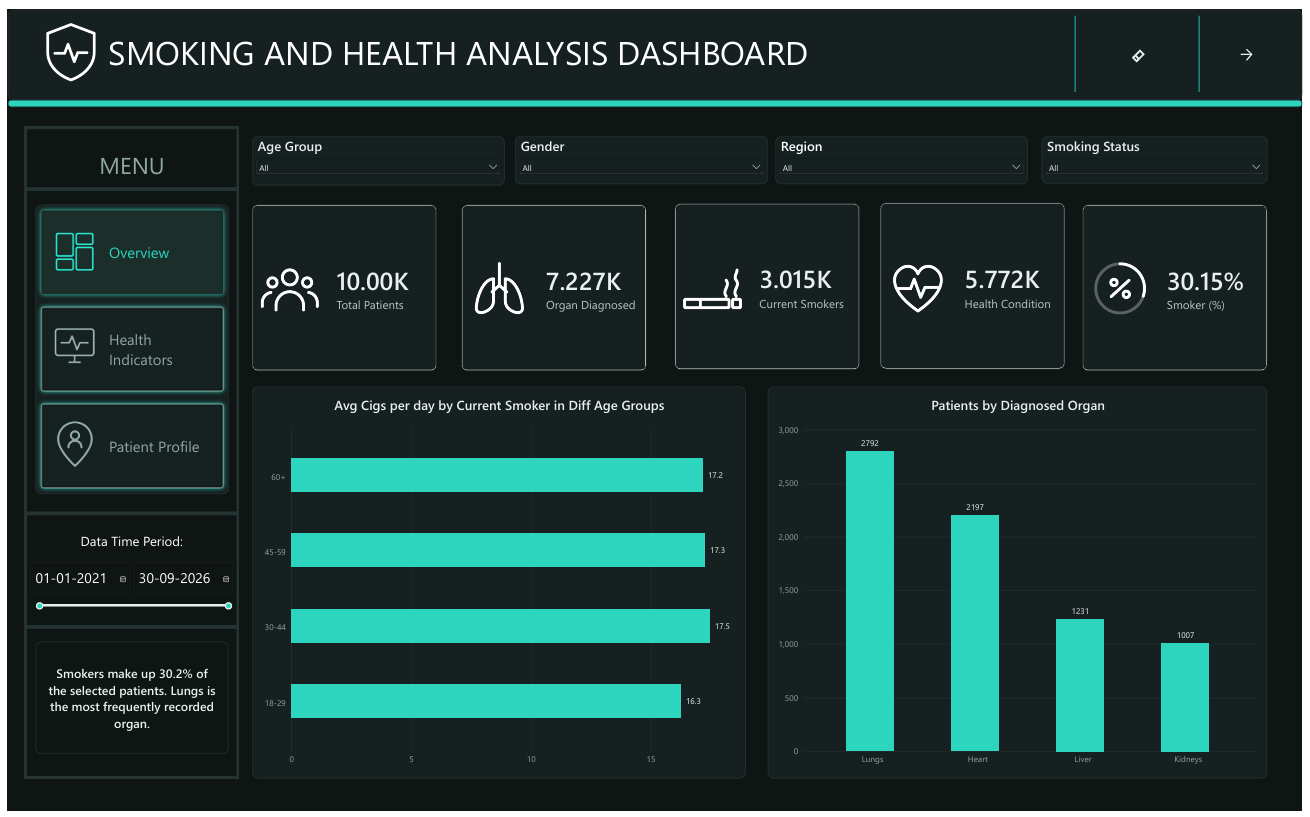

The page's visual inventory and layout, read from the dashboard file:
{"tool":"powerbi","page":{"name":"Overview","canvas":[2100,1300],"ordinal":0},"visuals":[{"type":"cardVisual","fields":{"Data":["measure.Smoker %"]},"box":[1742.9,315.7,300,270],"z":0},{"type":"barChart","title":"Avg Cigs per day by Current Smoker in Diff Age Groups","fields":{"Category":["Smoking_Health_Analysis.Age Group"],"Y":["measure.Avg Cigs per Current Smoker"]},"box":[395.7,611.4,801.4,635.7],"z":1000},{"type":"columnChart","title":"Patients by Diagnosed Organ","fields":{"Category":["Smoking_Health_Analysis.Diagnosed_Organ"],"Y":["CountNonNull(Smoking_Health_Analysis.Health_Condition)"]},"box":[1232.9,611.4,810,635.7],"z":2000},{"type":"shape","box":[0,0,2100,145.8],"z":3000},{"type":"shape","box":[0,146,2100,12.2],"z":4000},{"type":"image","box":[45,0,115,135],"z":5000},{"type":"textbox","box":[127.5,31.2,1185,103.8],"z":6000},{"type":"cardVisual","fields":{"Data":["measure.Patients with Health Condition"]},"box":[1415,312.5,300,270],"z":7000},{"type":"cardVisual","fields":{"Data":["measure.Patients with Organ diagnose"]},"box":[735.8,315.8,300,270],"z":8000},{"type":"cardVisual","fields":{"Data":["measure.Current Smokers"]},"box":[1082,314,300,270],"z":9000},{"type":"cardVisual","fields":{"Data":["measure.Total Patients"]},"box":[396,316,300,270],"z":10000},{"type":"actionButton","box":[1773.5,14.1,120,120.8],"z":11000},{"type":"shape","box":[1725.3,10,12.9,122.9],"z":12000},{"type":"shape","box":[1926.5,10,12.9,122.9],"z":13000},{"type":"actionButton","box":[1959.4,52.9,100,40],"z":14000},{"type":"slicer","fields":{"Values":["Smoking_Health_Analysis.Age Group"]},"box":[396,205,410,80],"z":15000},{"type":"slicer","fields":{"Values":["Smoking_Health_Analysis.Gender"]},"box":[823,205,410,77.5],"z":16000},{"type":"slicer","fields":{"Values":["Smoking_Health_Analysis.Region"]},"box":[1245,205,410,77.5],"z":17000},{"type":"slicer","fields":{"Values":["Smoking_Health_Analysis.Smoking_Status"]},"box":[1677,205,366.7,76.7],"z":18000},{"type":"shape","box":[27.3,190,348.2,1057.3],"z":19000},{"type":"pageNavigator","box":[45.2,316.2,313.6,470],"z":20000},{"type":"shape","box":[27.9,840,346.4,42.1],"z":21000},{"type":"slicer","fields":{"Values":["Smoking_Health_Analysis.Diagnosis_Date"]},"box":[27.9,890.7,346.4,97.1],"z":22000},{"type":"shape","box":[27.9,794.3,346.4,45.7],"z":23000},{"type":"shape","box":[27.9,977.9,346.4,46.4],"z":24000},{"type":"shape","box":[27.9,267.9,346.4,45.7],"z":25000},{"type":"textbox","box":[27.7,226.9,347.7,57.7],"z":26000},{"type":"cardVisual","fields":{"Data":["measure.Insight Text P1"]},"box":[45,1025,313.3,181.7],"z":27000},{"type":"image","box":[63.3,351.7,91,81],"z":28000},{"type":"image","box":[63.3,503.3,90.8,80.8],"z":29000},{"type":"image","box":[63.3,660,90.8,87.5],"z":30000}]}

Visuals, with their boxes in screenshot pixels (x1, y1, x2, y2), scaled from the page's 2100x1300 canvas onto the 1310x817 screenshot:
cardVisual - measure.Smoker %: (left=1087, top=198, right=1274, bottom=368)
"Avg Cigs per day by Current Smoker in Diff Age Groups" barChart: (left=247, top=384, right=747, bottom=784)
"Patients by Diagnosed Organ" columnChart: (left=769, top=384, right=1274, bottom=784)
shape: (left=0, top=0, right=1309, bottom=92)
shape: (left=0, top=92, right=1309, bottom=99)
image: (left=28, top=0, right=100, bottom=85)
textbox: (left=80, top=20, right=819, bottom=85)
cardVisual - measure.Patients with Health Condition: (left=883, top=196, right=1070, bottom=366)
cardVisual - measure.Patients with Organ diagnose: (left=459, top=198, right=646, bottom=368)
cardVisual - measure.Current Smokers: (left=675, top=197, right=862, bottom=367)
cardVisual - measure.Total Patients: (left=247, top=199, right=434, bottom=368)
actionButton: (left=1106, top=9, right=1181, bottom=85)
shape: (left=1076, top=6, right=1084, bottom=84)
shape: (left=1202, top=6, right=1210, bottom=84)
actionButton: (left=1222, top=33, right=1285, bottom=58)
slicer - Smoking_Health_Analysis.Age Group: (left=247, top=129, right=503, bottom=179)
slicer - Smoking_Health_Analysis.Gender: (left=513, top=129, right=769, bottom=178)
slicer - Smoking_Health_Analysis.Region: (left=777, top=129, right=1032, bottom=178)
slicer - Smoking_Health_Analysis.Smoking_Status: (left=1046, top=129, right=1275, bottom=177)
shape: (left=17, top=119, right=234, bottom=784)
pageNavigator: (left=28, top=199, right=224, bottom=494)
shape: (left=17, top=528, right=233, bottom=554)
slicer - Smoking_Health_Analysis.Diagnosis_Date: (left=17, top=560, right=233, bottom=621)
shape: (left=17, top=499, right=233, bottom=528)
shape: (left=17, top=615, right=233, bottom=644)
shape: (left=17, top=168, right=233, bottom=197)
textbox: (left=17, top=143, right=234, bottom=179)
cardVisual - measure.Insight Text P1: (left=28, top=644, right=224, bottom=758)
image: (left=39, top=221, right=96, bottom=272)
image: (left=39, top=316, right=96, bottom=367)
image: (left=39, top=415, right=96, bottom=470)
